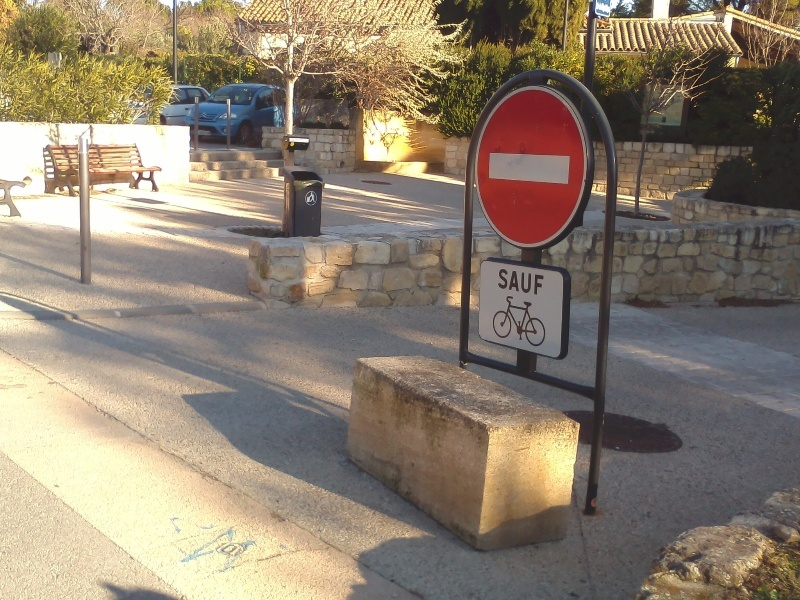text: (513, 268, 528, 297), (529, 268, 544, 297), (499, 268, 512, 297), (596, 1, 608, 15), (609, 1, 612, 15)
